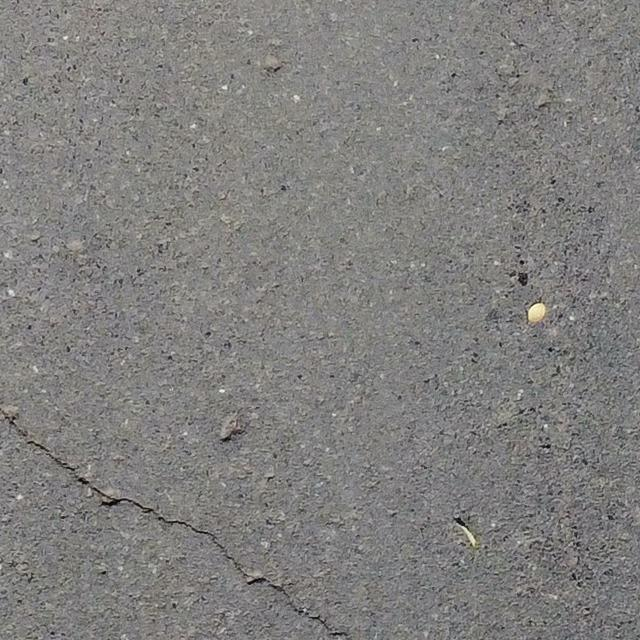TransverseCrack: (1, 411, 353, 640)
